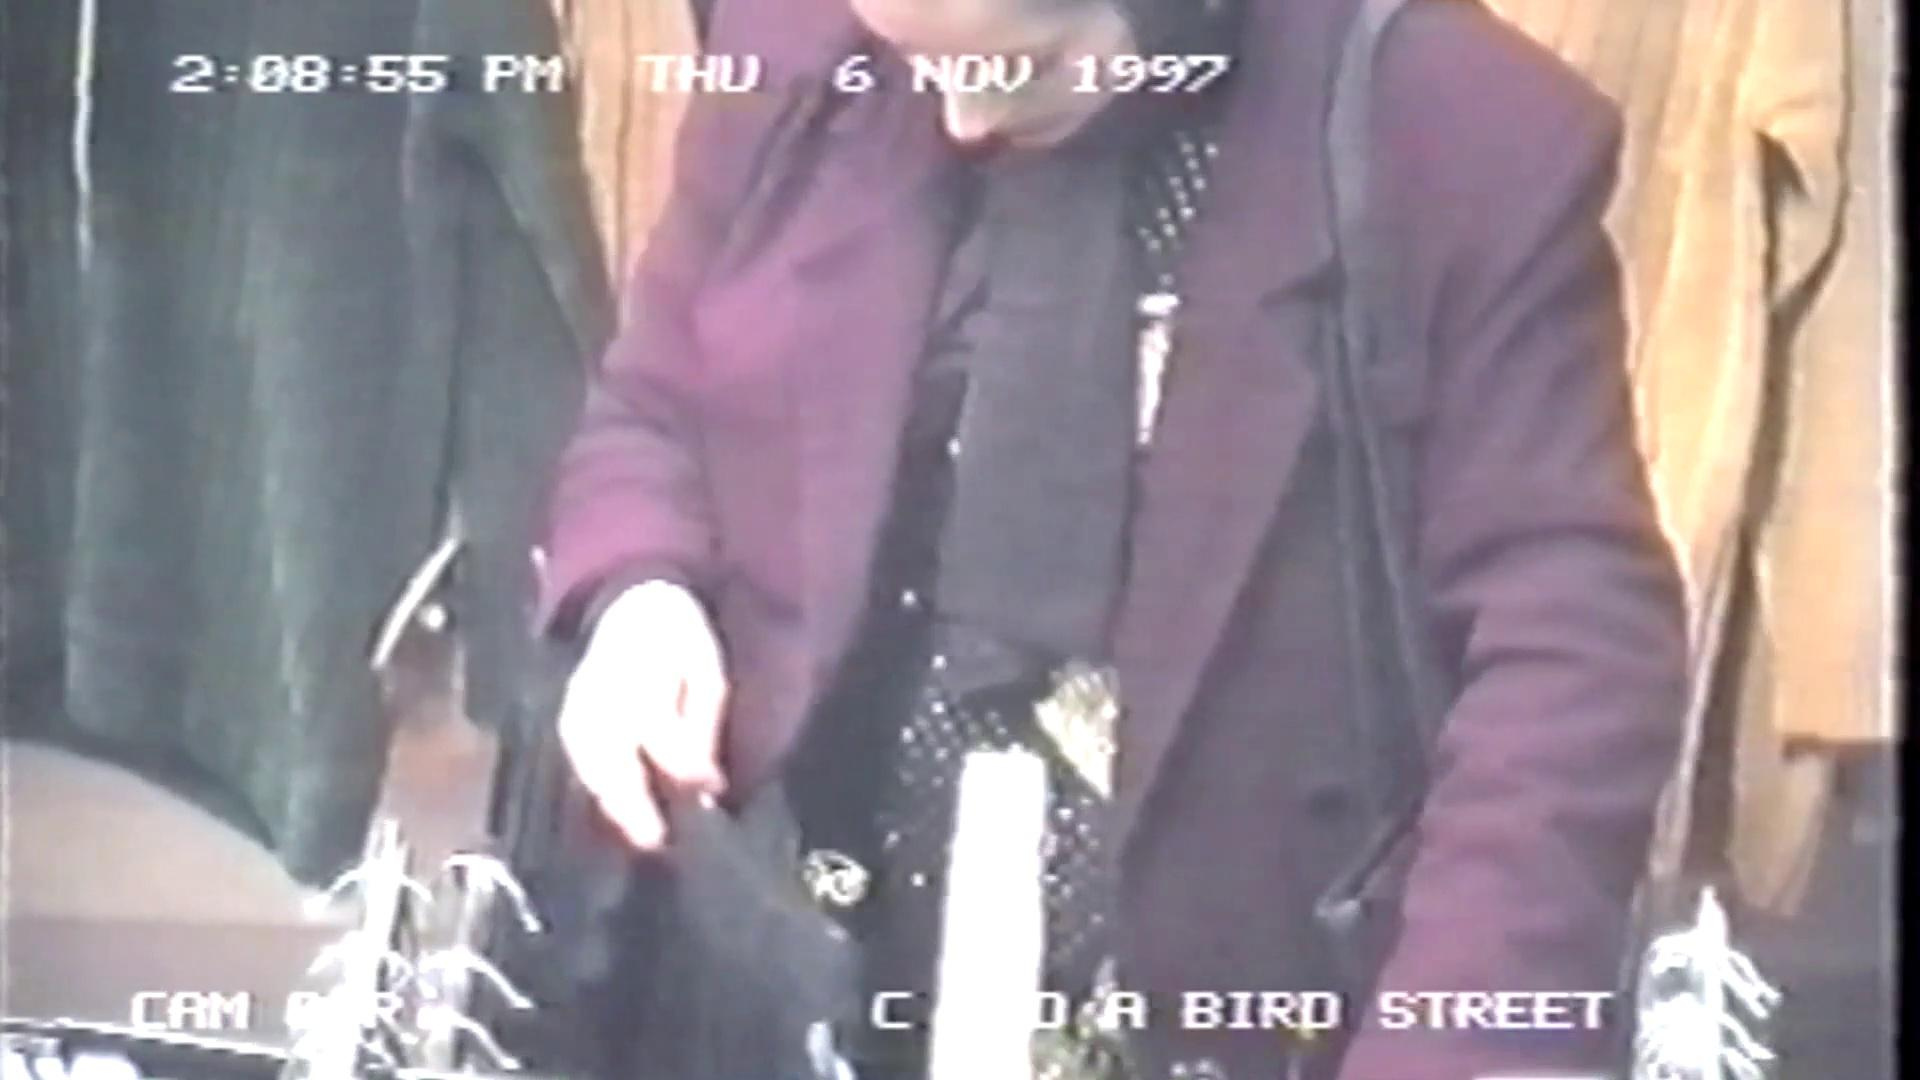1: (504, 644, 897, 1080)
2: (521, 0, 1908, 1080)
persone: (1245, 741, 1920, 1080)
